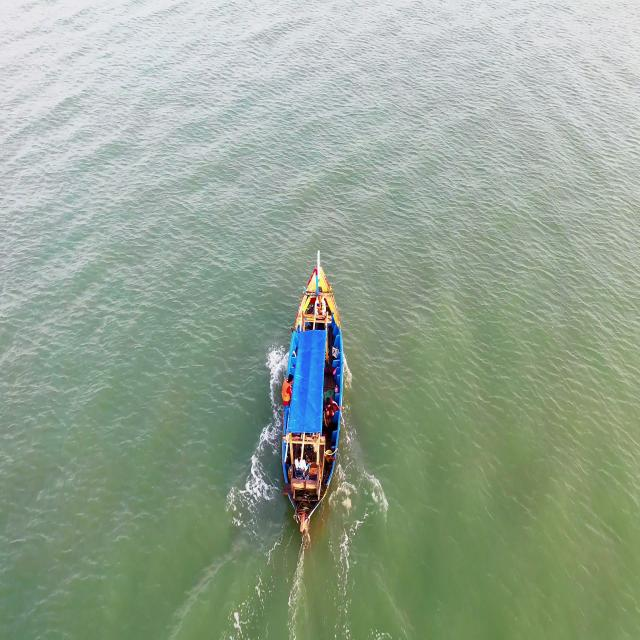ship: (278, 240, 346, 529)
